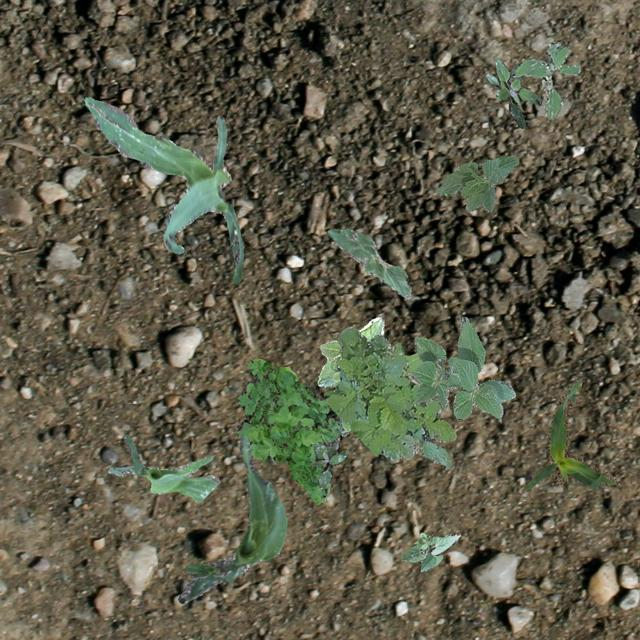crop: (82, 96, 242, 282), (176, 433, 286, 602), (316, 316, 422, 434), (406, 316, 514, 420), (524, 376, 620, 489), (108, 434, 218, 502), (326, 228, 411, 298), (434, 154, 518, 210), (400, 532, 460, 570)
weed: (322, 326, 456, 468), (235, 358, 342, 503), (510, 40, 580, 120), (484, 56, 540, 128), (310, 442, 348, 488)
